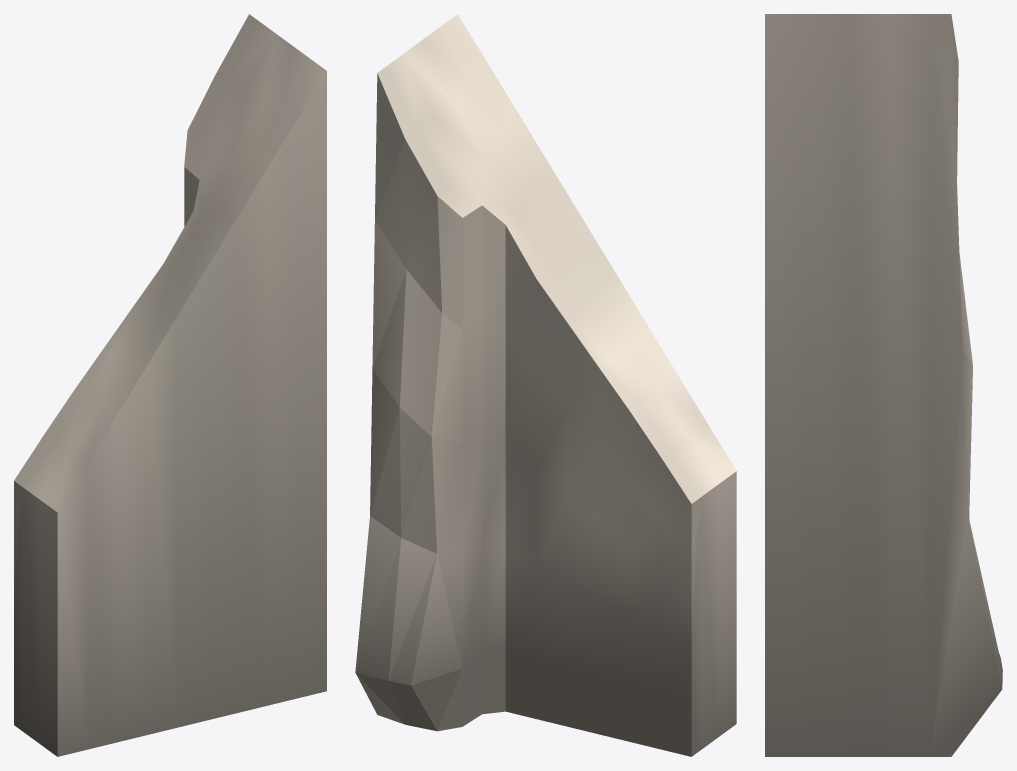
File: SM_VKI_Rock_Cave_CFOO_WallNW.fbx
The picture shows the model from 3 angles, left to right: view 1: azimuth 30°, elevation 25°; view 2: azimuth 150°, elevation 25°; view 3: azimuth 270°, elevation 25°; orthographic projection. The views are drawn at different scales.
Parts seen in each view (by area): view 1: SM_VKI_Rock_Cave_CFOO_WallNW.001; view 2: SM_VKI_Rock_Cave_CFOO_WallNW.001; view 3: SM_VKI_Rock_Cave_CFOO_WallNW.001.
Part boxes in pixels (box(x1,y1,x2,y2)): SM_VKI_Rock_Cave_CFOO_WallNW.001: box(14, 14, 326, 756); SM_VKI_Rock_Cave_CFOO_WallNW.001: box(355, 14, 736, 756); SM_VKI_Rock_Cave_CFOO_WallNW.001: box(765, 14, 1002, 756).
Size of the model in its own units: 1.5 by 3.3 by 0.9571.
